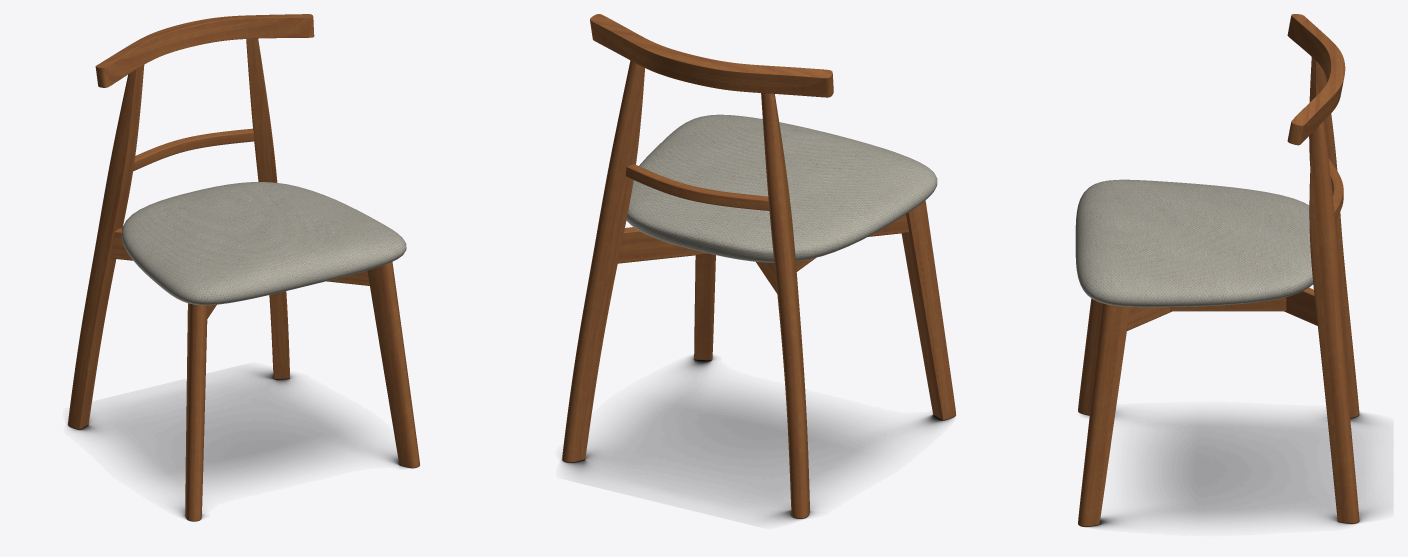
The model's file is Mats.glb.
The picture shows the model from 3 angles, left to right: view 1: azimuth 30°, elevation 25°; view 2: azimuth 150°, elevation 25°; view 3: azimuth 270°, elevation 25°; orthographic projection. The views are drawn at different scales.
Visible parts, largest first — view 1: legs.009, seat, Shadow.007; view 2: legs.009, seat, Shadow.007; view 3: seat, legs.009, Shadow.007.
Part boxes in pixels (x1,y1,x2,y2): legs.009: (68,14,419,521); seat: (121,182,406,305); Shadow.007: (67,369,419,521); legs.009: (562,14,955,518); seat: (626,114,937,262); Shadow.007: (561,355,955,521); seat: (1075,179,1313,307); legs.009: (1078,14,1359,526); Shadow.007: (1078,409,1381,527).
Size of the model in its own units: 0.6086 by 0.7619 by 0.6086.
3 materials, 3 textured.
